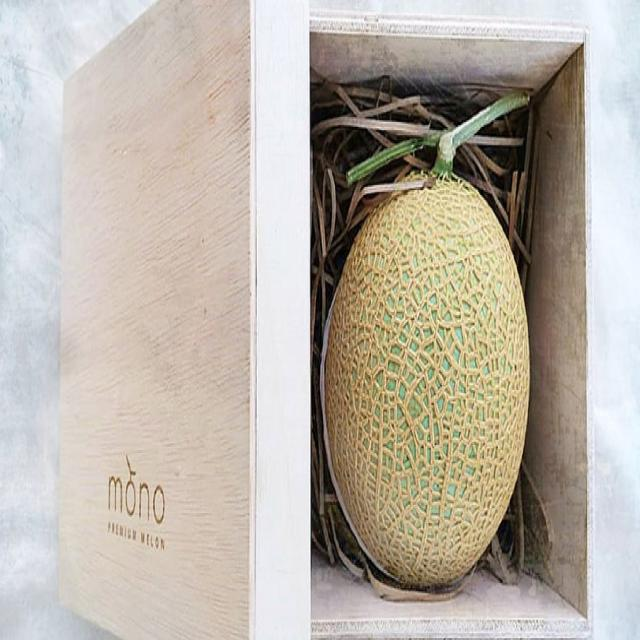melon: (320, 160, 534, 594)
